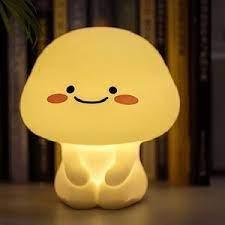Lamp: (18, 21, 185, 213)
